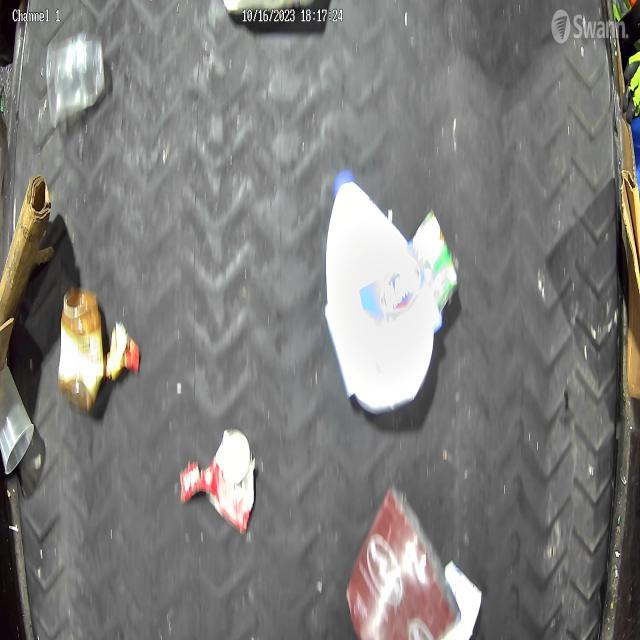can: (58, 288, 105, 412), (206, 427, 256, 538), (410, 208, 460, 315)
milk_jug: (324, 166, 444, 414)
